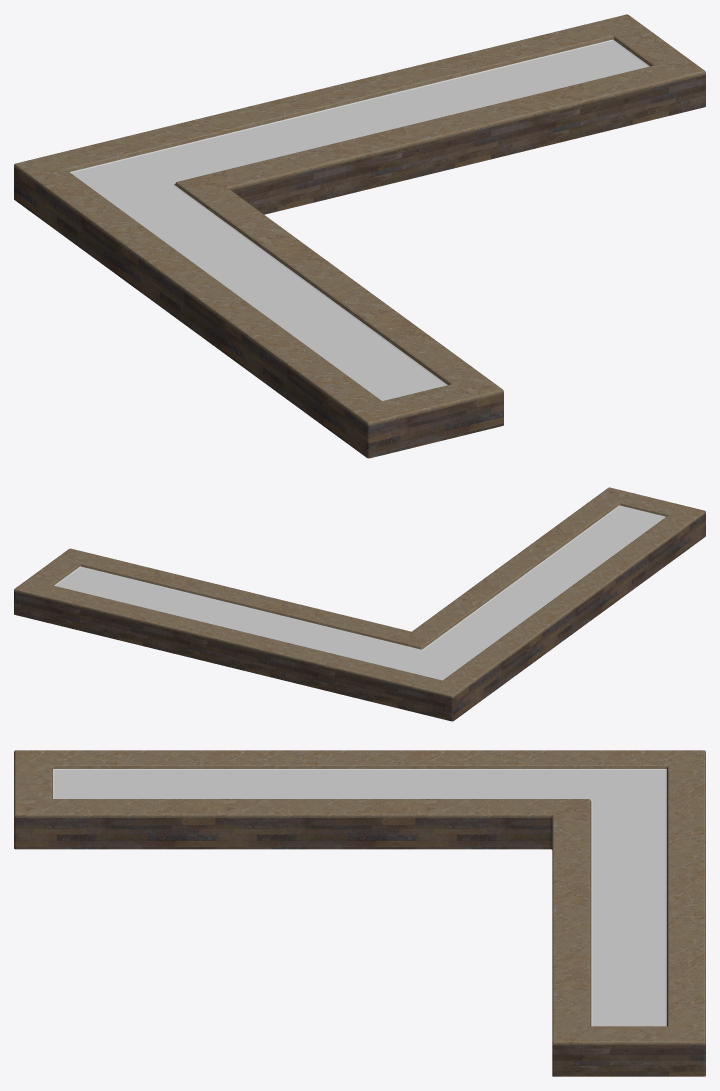
Rendered from garden_3.fbx.
The picture shows the model from 3 angles, top to bottom: view 1: azimuth 30°, elevation 25°; view 2: azimuth 150°, elevation 25°; view 3: azimuth 270°, elevation 25°; orthographic projection. The views are drawn at different scales.
Parts seen in each view (by area): view 1: Cube.002; view 2: Cube.002; view 3: Cube.002.
Part boxes in pixels (x1,y1,x2,y2): Cube.002: [14, 14, 705, 458]; Cube.002: [14, 487, 705, 721]; Cube.002: [14, 750, 705, 1076].
Size of the model in its own units: 900 by 50 by 900.
